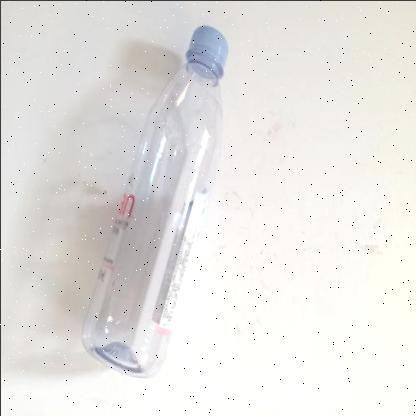Plastic Bottle: (81, 24, 227, 378)
